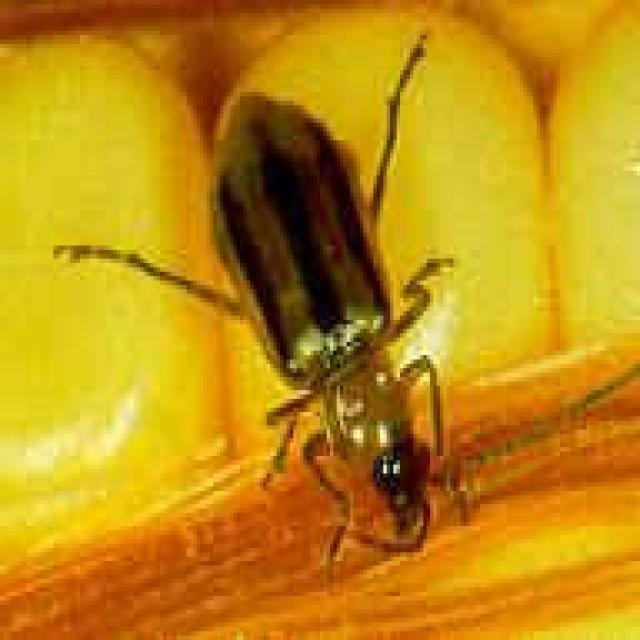trips: (83, 28, 564, 566)
